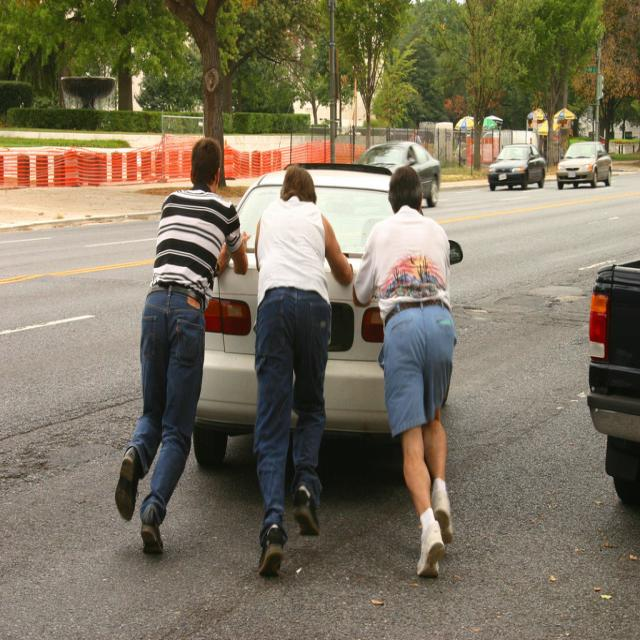car: (495, 132, 550, 184), (557, 131, 610, 184)
